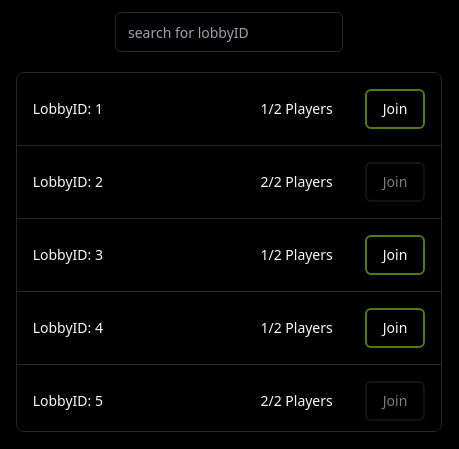
Test: LobbySelection › filters lobbies based on search input
Type "2" into the field with placeholder "search for lobbyID".
click(229, 32); type("2")  # box x1=115 y1=12 x2=343 y2=52
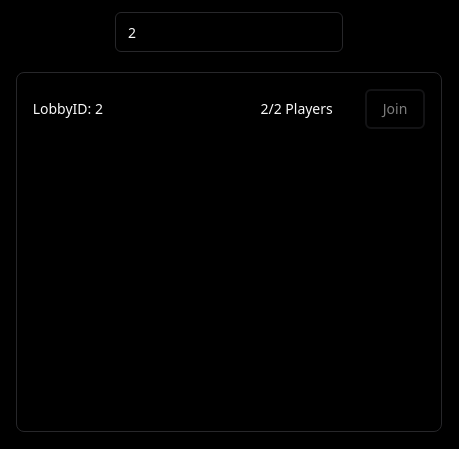
Expected: the number of rows is 1, x1=17 y1=73 x2=441 y2=145
Expected: the cell "LobbyID: 2" is shown, x1=17 y1=73 x2=181 y2=145
